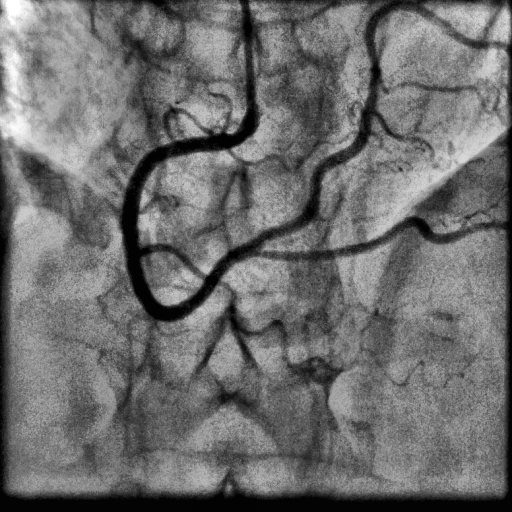pborca: (250, 1, 503, 250)
pda: (257, 216, 508, 260)
rca: (121, 134, 261, 321)
